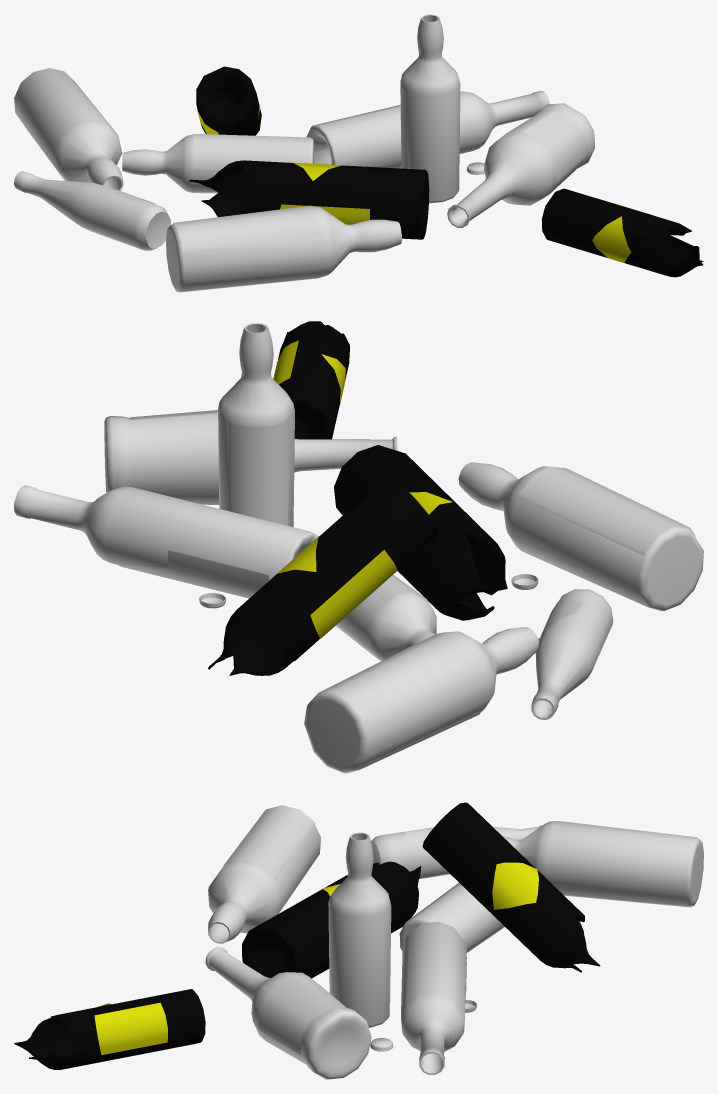
File: SM_Bottle_Cluster_03.fbx
3 renders of one model, top to bottom at view 1: azimuth 30°, elevation 25°; view 2: azimuth 150°, elevation 25°; view 3: azimuth 270°, elevation 25°, orthographic. The views are drawn at different scales.
Visible parts, largest first — view 1: SM_Bottle_Cluster_03_LOD0; view 2: SM_Bottle_Cluster_03_LOD0; view 3: SM_Bottle_Cluster_03_LOD0.
Boxes of the visible parts, bbox=[...] form: SM_Bottle_Cluster_03_LOD0: bbox=[14, 14, 703, 292]; SM_Bottle_Cluster_03_LOD0: bbox=[14, 321, 703, 773]; SM_Bottle_Cluster_03_LOD0: bbox=[14, 802, 703, 1079].
Bounding box in the file's own units: 56.1 × 68.14 × 19.77.
